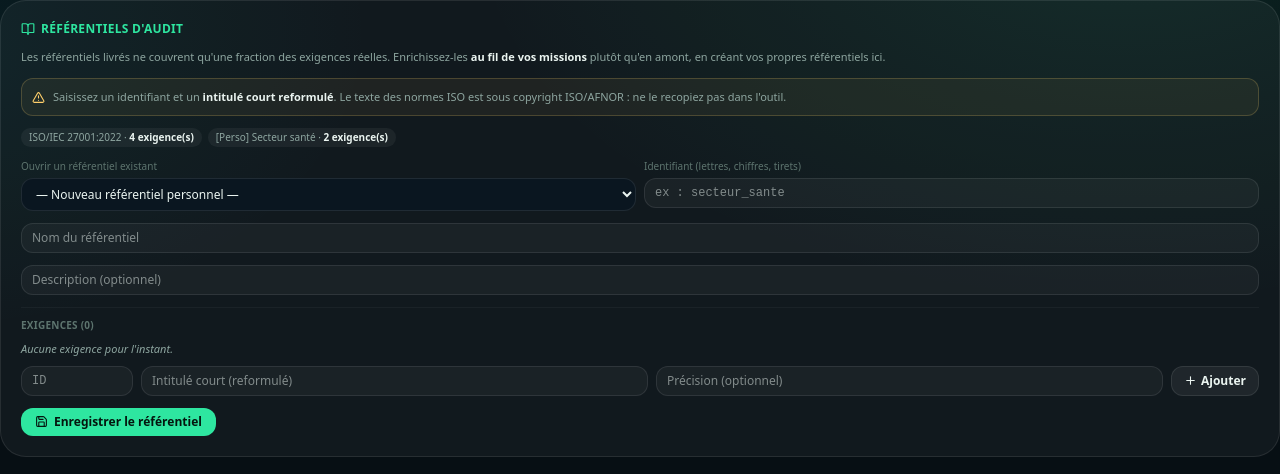
Test: ReferentielsPanel › refuse d'enregistrer sans identifiant ni nom
Click the button "Enregistrer le référentiel". click: (118, 422)
box: [21,408,216,436]
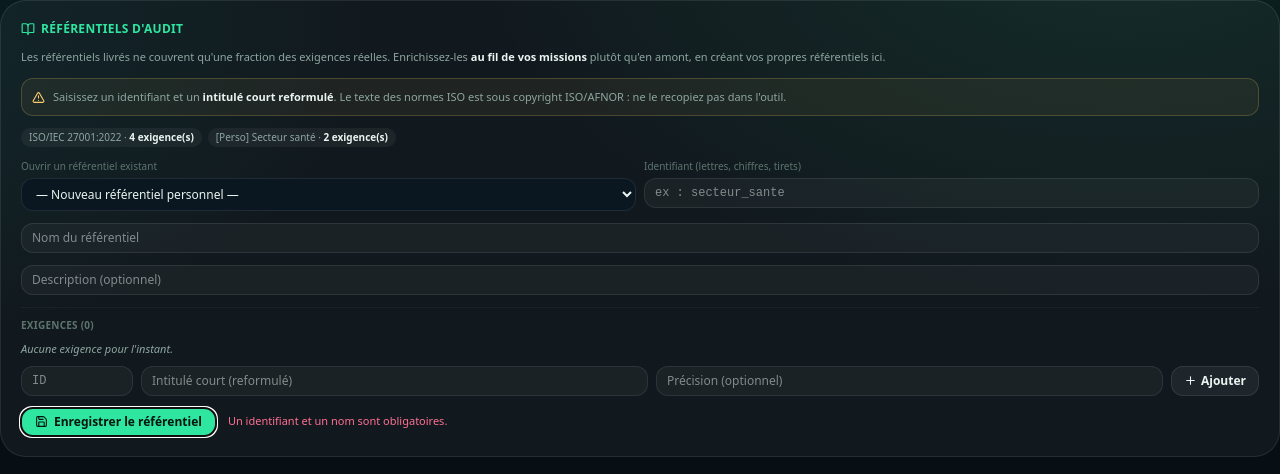
Check: the text "Un identifiant et un nom sont obligatoires." is shown, box [228,413,447,430]
